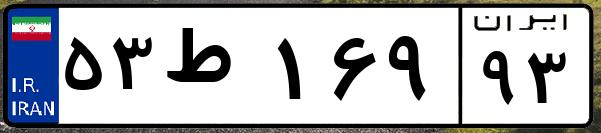1: (270, 28, 330, 110)
3: (525, 38, 570, 115), (110, 28, 158, 98)
5: (57, 26, 110, 100)
6: (330, 28, 385, 110)
9: (385, 28, 445, 110), (475, 38, 525, 113)
ط: (158, 20, 270, 120)
